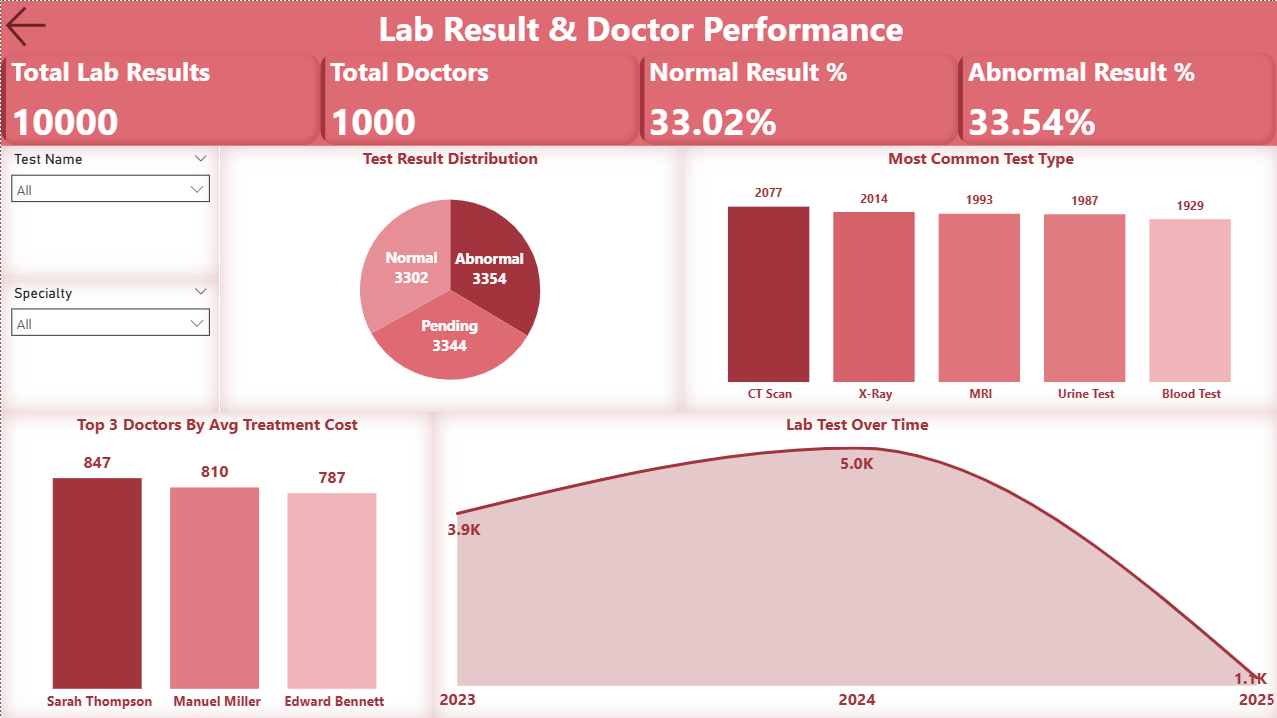

What the dashboard file says about the page in this screenshot:
{"tool":"powerbi","page":{"name":"Lab Result & Doctor Performance","canvas":[1280,720],"ordinal":2},"visuals":[{"type":"shape","box":[0,0,1279.7,52.7],"z":0},{"type":"cardVisual","fields":{"Data":["Lab result.Total Lab Results","Doctor.Total Doctors","Lab result.Normal Result %","Lab result.Abnormal Result %"]},"box":[0,51.4,1279.7,93.2],"z":1000},{"type":"clusteredColumnChart","title":"Most Common Test Type","fields":{"Category":["Lab result.Test Name"],"Y":["Lab result.Total Lab Results"]},"box":[680,145,600,266.2],"z":2000},{"type":"pieChart","title":"Test Result Distribution","fields":{"Category":["Lab result.Test Result"],"Y":["Lab result.Total Lab Results"]},"box":[218.8,145,461.2,266.2],"z":3000},{"type":"slicer","fields":{"Values":["Lab result.Test Name"]},"box":[0,145,218.8,133.8],"z":4000},{"type":"slicer","fields":{"Values":["Doctor.Specialty"]},"box":[0,278.8,218.8,132.5],"z":5000},{"type":"lineChart","title":"Lab Test Over Time","fields":{"Category":["Lab result.Test Date.Variation.Date Hierarchy.Year"],"Y":["Lab result.Total Lab Results"]},"box":[432.5,411.2,847.5,308.8],"z":6000},{"type":"clusteredColumnChart","title":"Top 3 Doctors By Avg Treatment Cost","fields":{"Category":["Doctor.Doctor Name"],"Y":["Treatments.Avg Treatment Cost per Visits"]},"box":[0,411.2,432.5,308.8],"z":7000},{"type":"actionButton","box":[0,0,58.8,51.2],"z":8000}]}

Visuals, with their boxes in screenshot pixels (x1, y1, x2, y2), scaled from the page's 1280x720 canvas onto the 1277x718 screenshot:
shape: detection(0, 0, 1276, 53)
cardVisual - Lab result.Total Lab Results x Doctor.Total Doctors: detection(0, 51, 1276, 144)
"Most Common Test Type" clusteredColumnChart: detection(678, 145, 1276, 410)
"Test Result Distribution" pieChart: detection(218, 145, 678, 410)
slicer - Lab result.Test Name: detection(0, 145, 218, 278)
slicer - Doctor.Specialty: detection(0, 278, 218, 410)
"Lab Test Over Time" lineChart: detection(431, 410, 1276, 717)
"Top 3 Doctors By Avg Treatment Cost" clusteredColumnChart: detection(0, 410, 431, 717)
actionButton: detection(0, 0, 59, 51)
